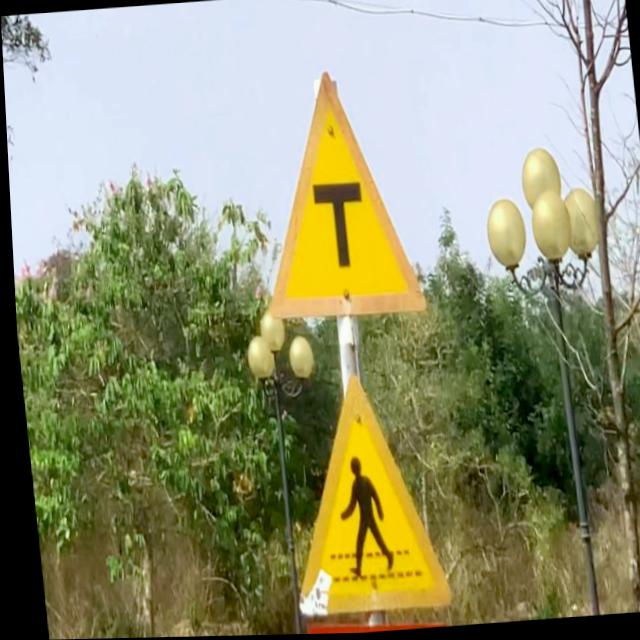Duong giao nhau cung cap: (236, 56, 430, 338)
Nguoi di bo cat ngang: (267, 361, 452, 630)
